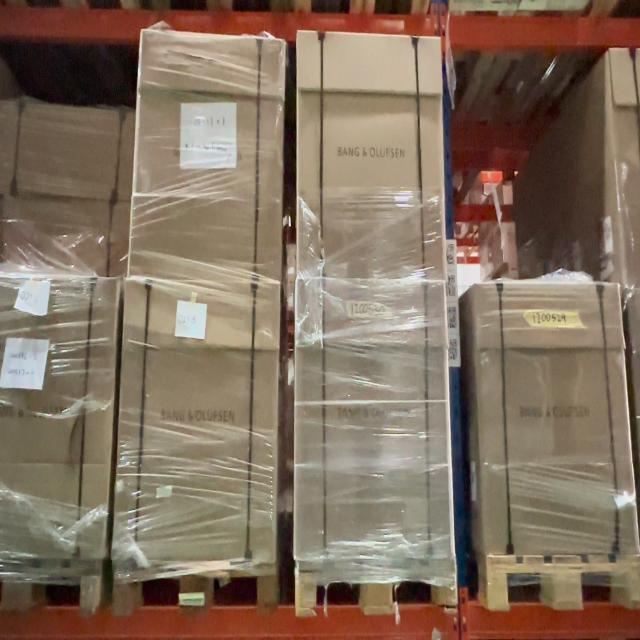box: (296, 268, 455, 562), (471, 280, 636, 553), (123, 280, 273, 568), (137, 28, 283, 283), (298, 27, 444, 274), (0, 269, 117, 558), (3, 90, 132, 208), (2, 198, 129, 276)
